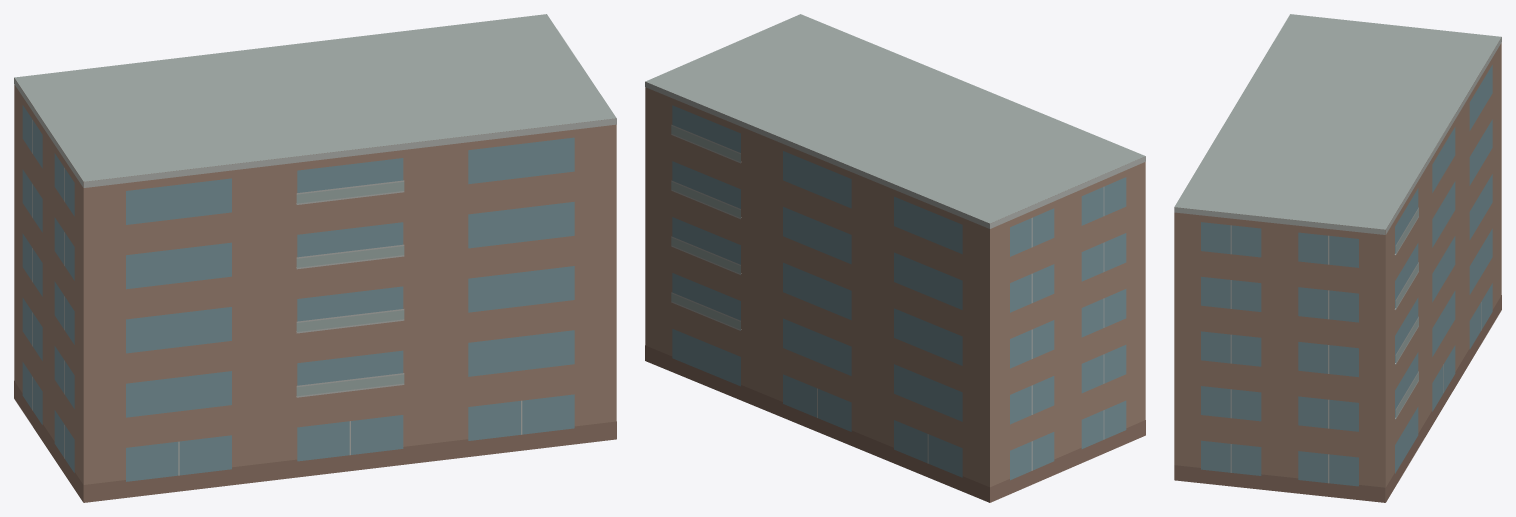
File: survey-upis-32923088.glb
3 views of the same model, side by side, from view 1: azimuth 30°, elevation 25°; view 2: azimuth 150°, elevation 25°; view 3: azimuth 270°, elevation 25° (orthographic). The views are drawn at different scales.
Visible parts, largest first — view 1: survey-upis-32923088.tmp; view 2: survey-upis-32923088.tmp; view 3: survey-upis-32923088.tmp.
Boxes of the visible parts, x1,y1,x2,y2 form: survey-upis-32923088.tmp: [14, 14, 616, 502]; survey-upis-32923088.tmp: [645, 14, 1145, 502]; survey-upis-32923088.tmp: [1174, 14, 1501, 502].
Bounding box in the file's own units: 20.94 × 12.36 × 13.44.
